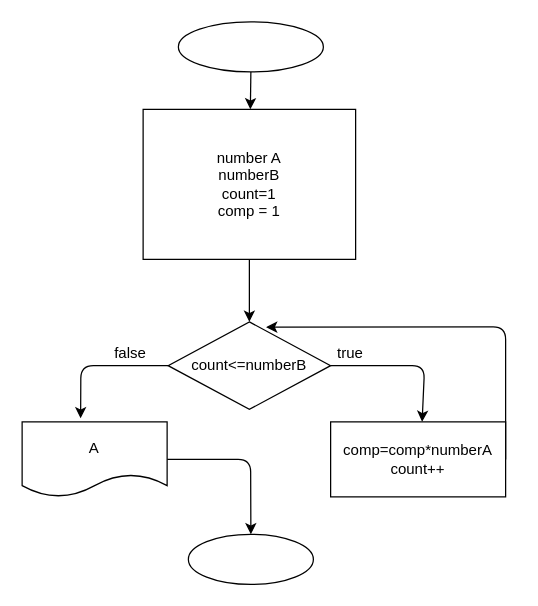
The diagram is 538 pixels wide and 606 high, and some of its shapes have lost their labels. The shapes that lost their labels are listed below. From the top down, each one's box as (x1, y1, x2, y2) in pixels, then its label:
(177, 21, 323, 72): start
(187, 533, 313, 584): end
